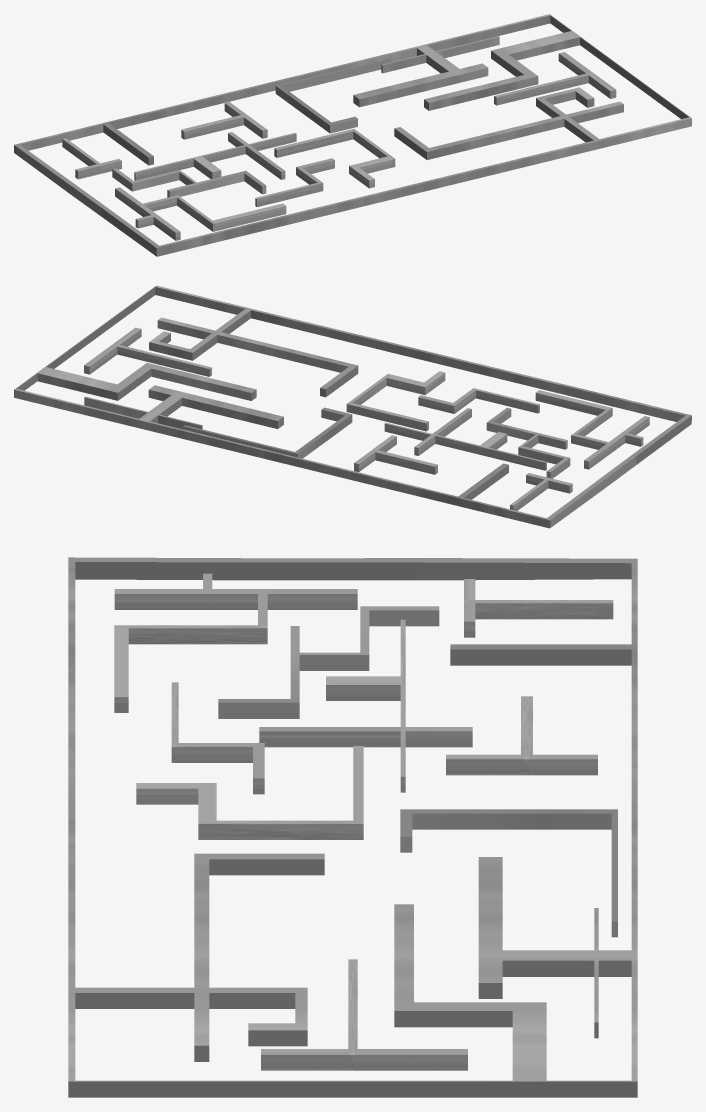
The model's file is Maze.fbx.
The picture shows the model from 3 angles, top to bottom: view 1: azimuth 30°, elevation 25°; view 2: azimuth 150°, elevation 25°; view 3: azimuth 270°, elevation 25°; orthographic projection. The views are drawn at different scales.
Parts seen in each view (by area): view 1: Cube, Cube.008, Cube.005, Cube.002, Cube.003, Cube.009, Cube.001, Cube.006, Cube.004, Cube.007; view 2: Cube, Cube.008, Cube.005, Cube.003, Cube.009, Cube.001, Cube.002, Cube.006, Cube.004, Cube.007; view 3: Cube, Cube.008, Cube.005, Cube.003, Cube.002, Cube.009, Cube.001, Cube.004, Cube.007, Cube.006.
Boxes of the visible parts, <box> form: Cube: <box>14,14,691,256</box>; Cube.008: <box>115,187,286,240</box>; Cube.005: <box>134,132,296,180</box>; Cube.002: <box>275,58,391,133</box>; Cube.003: <box>274,129,395,188</box>; Cube.009: <box>112,168,266,197</box>; Cube.001: <box>494,52,616,105</box>; Cube.006: <box>255,158,334,206</box>; Cube.004: <box>181,102,267,139</box>; Cube.007: <box>62,138,121,179</box>; Cube: <box>14,285,691,528</box>; Cube.008: <box>535,390,649,469</box>; Cube.005: <box>384,408,546,470</box>; Cube.003: <box>346,371,445,431</box>; Cube.009: <box>486,407,570,478</box>; Cube.001: <box>84,327,211,376</box>; Cube.002: <box>183,407,352,458</box>; Cube.006: <box>418,388,539,413</box>; Cube.004: <box>354,435,437,474</box>; Cube.007: <box>510,473,572,510</box>; Cube: <box>68,557,637,1097</box>; Cube.008: <box>114,573,357,712</box>; Cube.005: <box>259,619,472,792</box>; Cube.003: <box>136,746,363,839</box>; Cube.002: <box>400,809,617,937</box>; Cube.009: <box>218,606,439,718</box>; Cube.001: <box>261,959,467,1070</box>; Cube.004: <box>446,696,597,775</box>; Cube.007: <box>464,579,613,637</box>; Cube.006: <box>171,682,264,794</box>.
Size of the model in its own units: 132860 by 2215 by 61136.
1 material, 1 textured.
